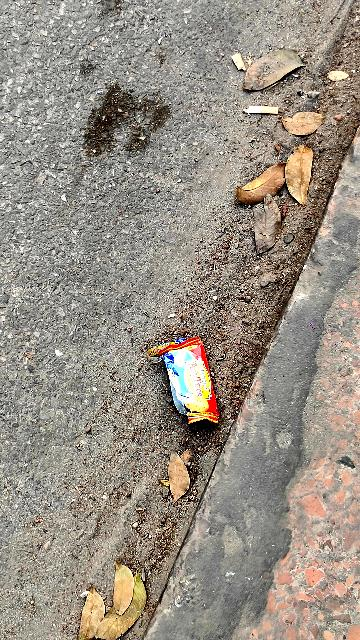packet: (156, 338, 233, 432)
